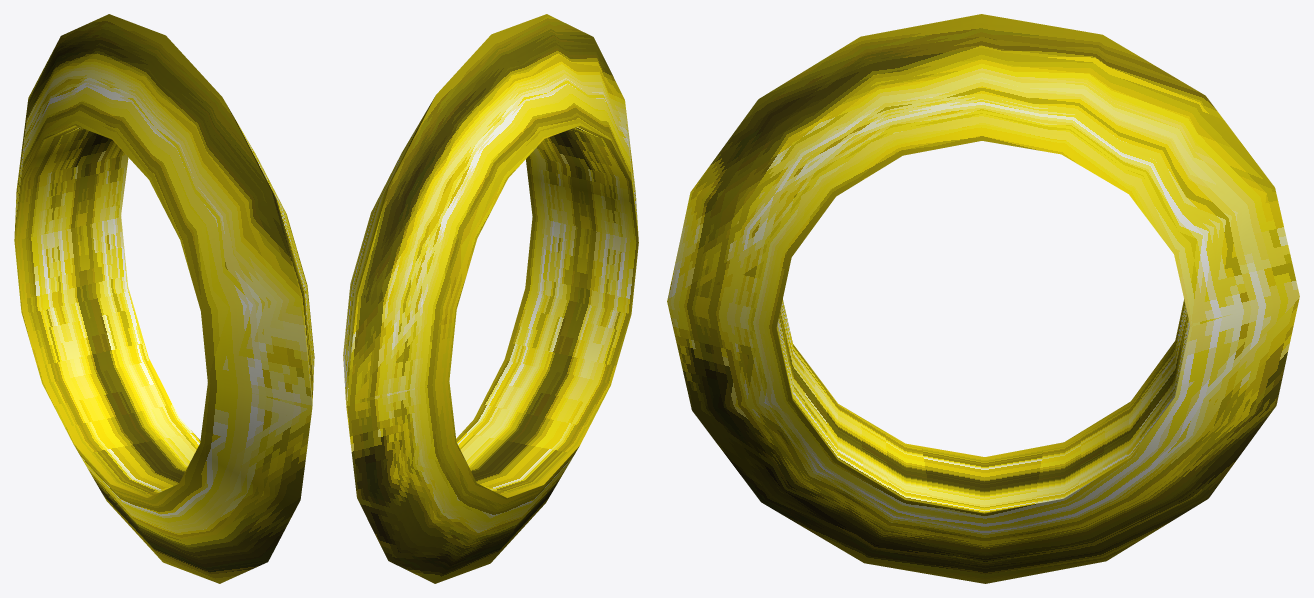
Rendered from Ring.obj.
3 views of the same model, side by side, from view 1: azimuth 30°, elevation 25°; view 2: azimuth 150°, elevation 25°; view 3: azimuth 270°, elevation 25° (orthographic). The views are drawn at different scales.
Size of the model in its own units: 2.02 by 9.37 by 9.42.
1 material, 1 textured.
